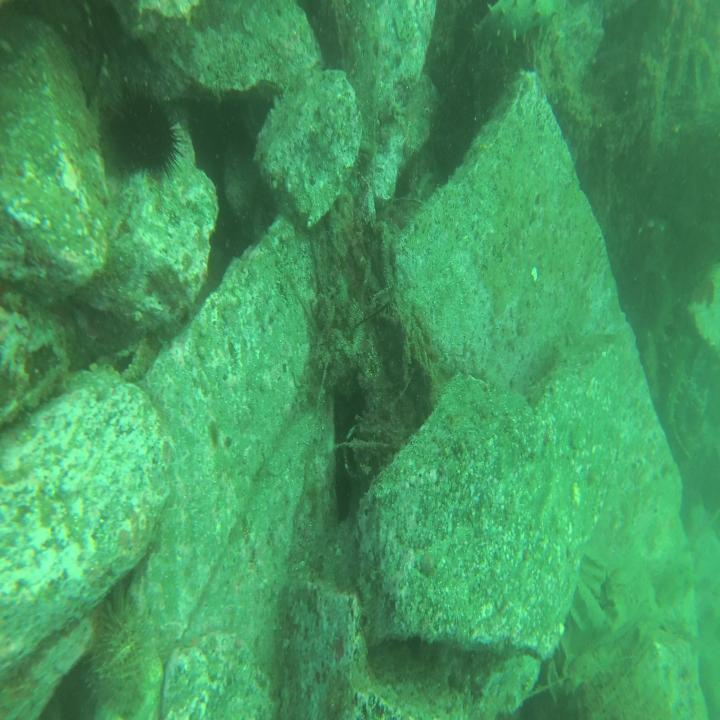echinus: (82, 593, 146, 720), (110, 80, 185, 180), (662, 336, 698, 436), (650, 281, 680, 347)
holothurian: (466, 0, 561, 86), (564, 628, 638, 692), (113, 329, 156, 391)
